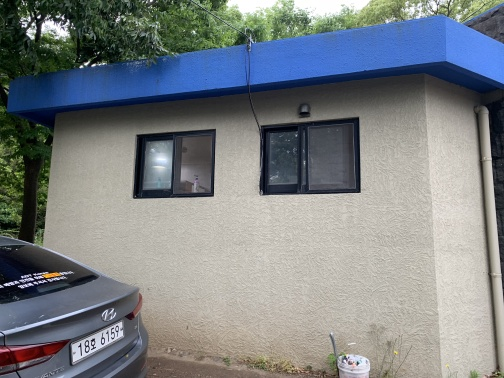Security Office: (8, 34, 499, 245)
